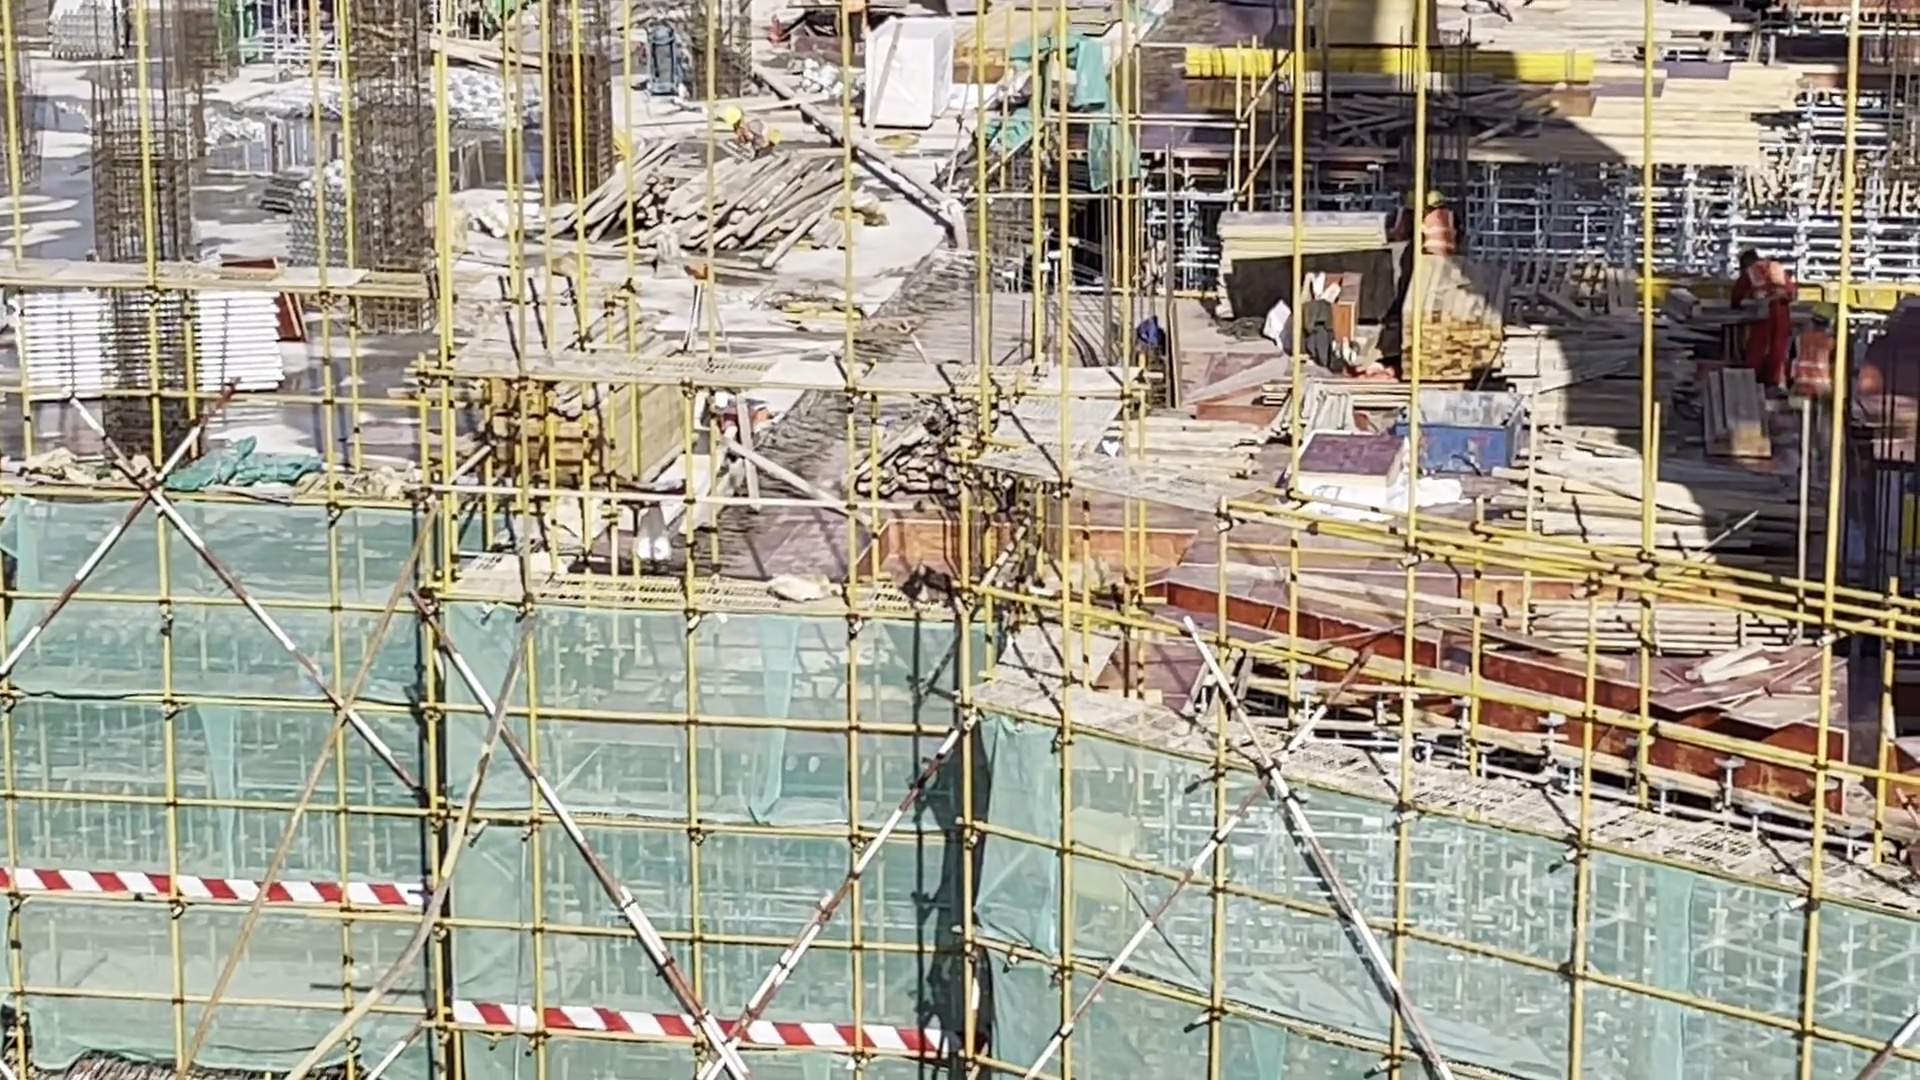board: (1658, 633, 1837, 761)
helmet: (721, 101, 741, 133), (1424, 186, 1447, 212), (712, 390, 735, 415)
hopper: (1411, 386, 1522, 475)
person: (1736, 245, 1801, 394), (694, 381, 770, 457), (1791, 296, 1841, 395), (714, 101, 772, 163), (1425, 190, 1456, 253)
scaffold: (23, 293, 286, 407)
vest: (1741, 259, 1790, 339), (1801, 329, 1834, 389), (1427, 211, 1457, 252)
wood: (623, 164, 859, 281), (1519, 592, 1756, 663), (1388, 272, 1521, 386)
